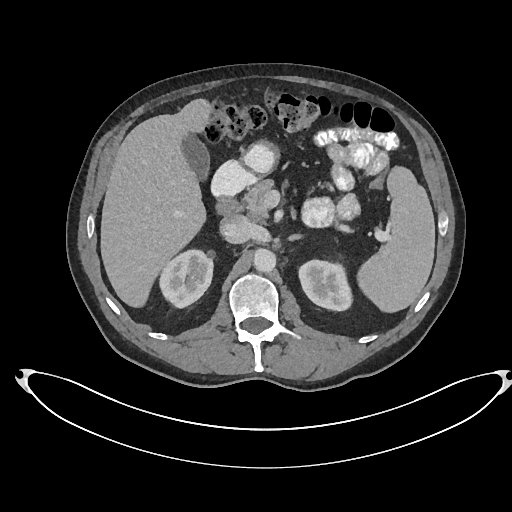Lesion: (201, 244, 218, 262)
